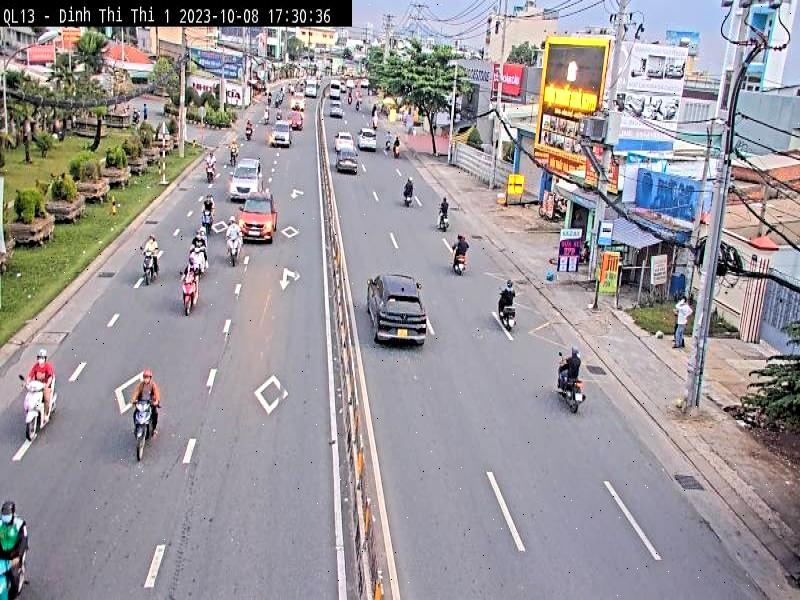car: (367, 274, 429, 345), (238, 195, 279, 242), (230, 158, 261, 200), (270, 125, 292, 147), (359, 128, 379, 151), (338, 158, 361, 173), (327, 103, 345, 120)
motorcycle: (20, 379, 52, 440), (132, 400, 162, 464)
